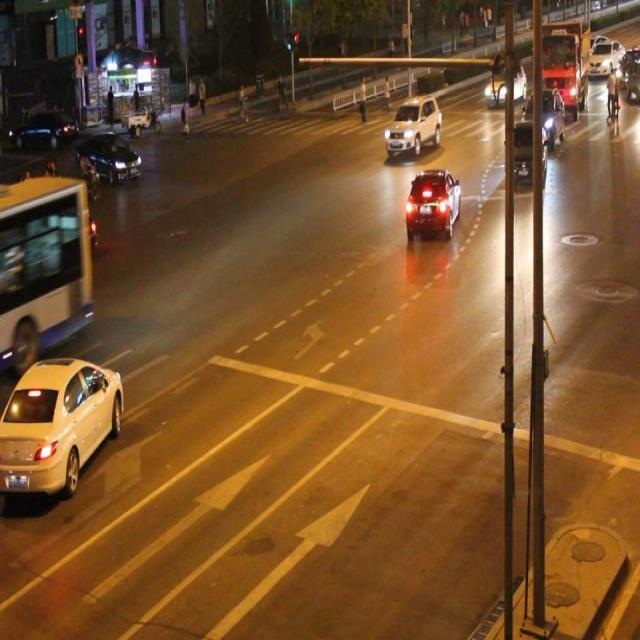car: (0, 358, 124, 492), (404, 165, 461, 239), (40, 208, 99, 272), (383, 94, 440, 152), (503, 120, 547, 188)
van: (1, 174, 93, 370)
